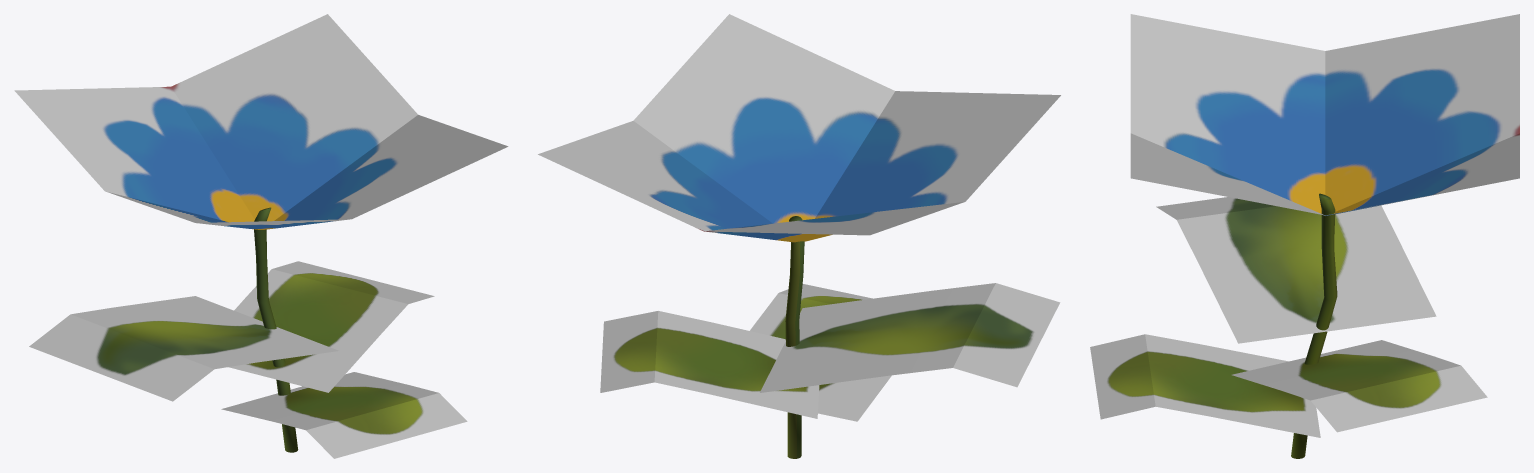
Rendered from Ground Cover_7.fbx.
The picture shows the model from 3 angles, left to right: view 1: azimuth 30°, elevation 25°; view 2: azimuth 150°, elevation 25°; view 3: azimuth 270°, elevation 25°; orthographic projection. The views are drawn at different scales.
Visible parts, largest first — view 1: Flower.008; view 2: Flower.008; view 3: Flower.008.
Boxes of the visible parts, box(x1,y1,x2,y2) form: Flower.008: box(14, 14, 508, 458); Flower.008: box(538, 14, 1060, 458); Flower.008: box(1090, 14, 1519, 458).
Bounding box in the file's own units: 651 × 510 × 566.
